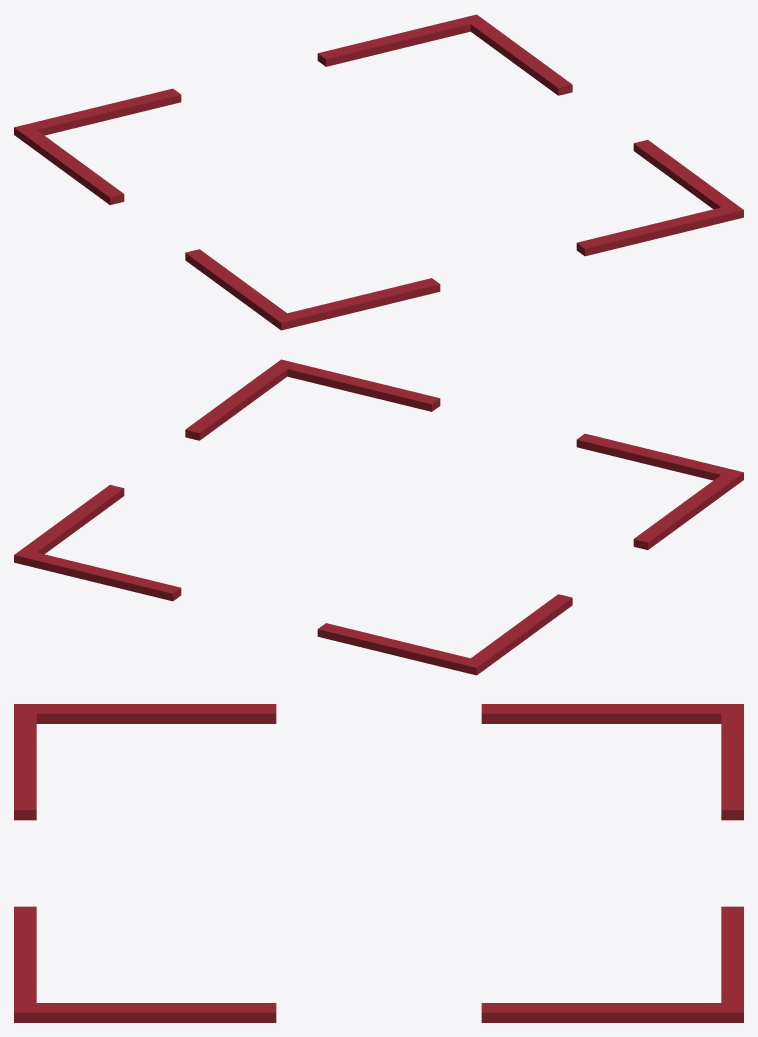
File: towerSlice2.obj
3 views of the same model, one above another, from view 1: azimuth 30°, elevation 25°; view 2: azimuth 150°, elevation 25°; view 3: azimuth 270°, elevation 25° (orthographic). The views are drawn at different scales.
Bounding box in the file's own units: 6.4 × 0.1 × 6.4.
1 material, 1 textured.
